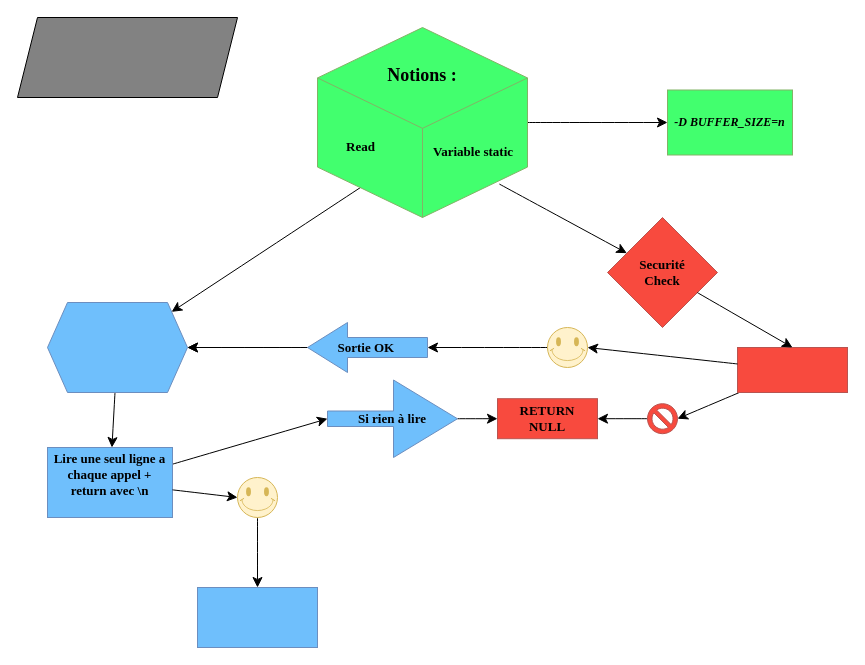
Image size: 865x665. Some labels were removed from this diagram. Each missing label, with the centre of its shape:
"Conditions" goes at [117,347].
"Get Next Line" goes at [127,57].
"Lecture sur FD ou sortie standard" goes at [792,369].
"Return la ligne lu" goes at [257,617].
